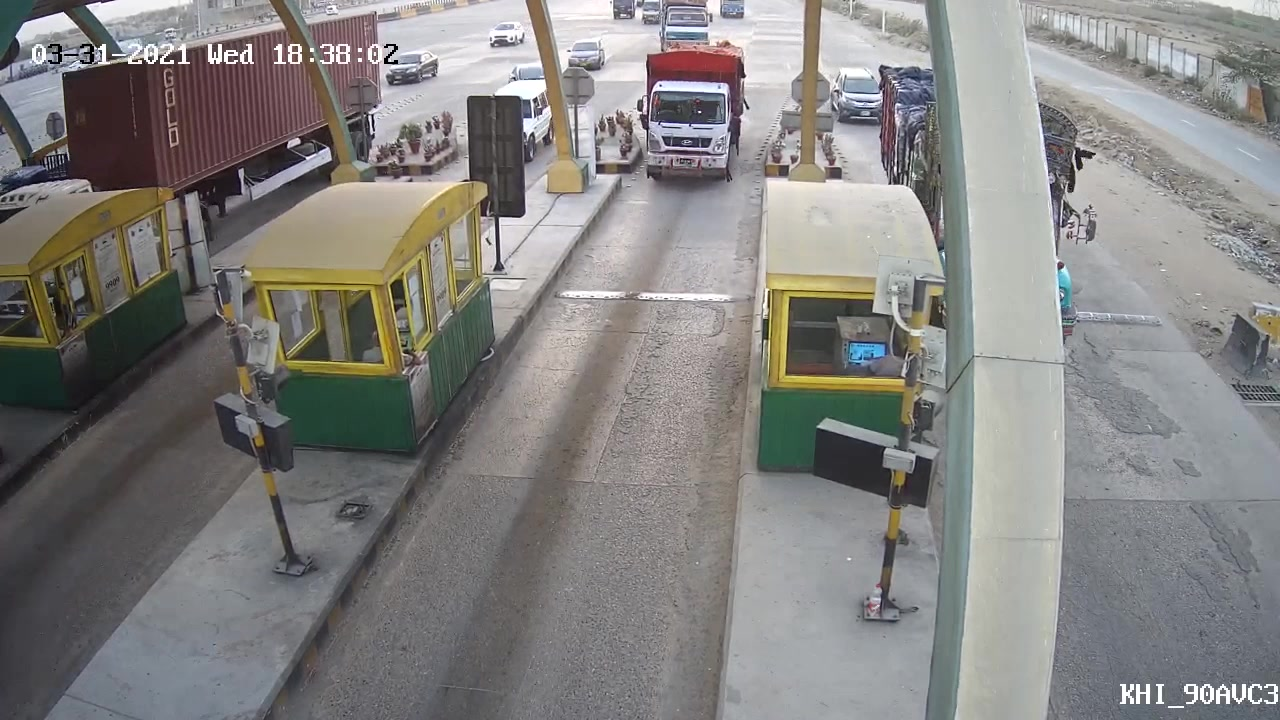F5: (629, 48, 753, 187)
